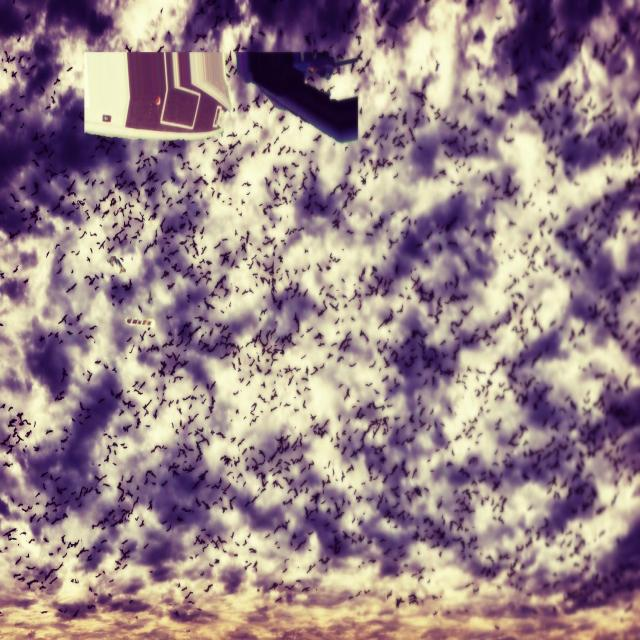airplane: (83, 46, 361, 145)
